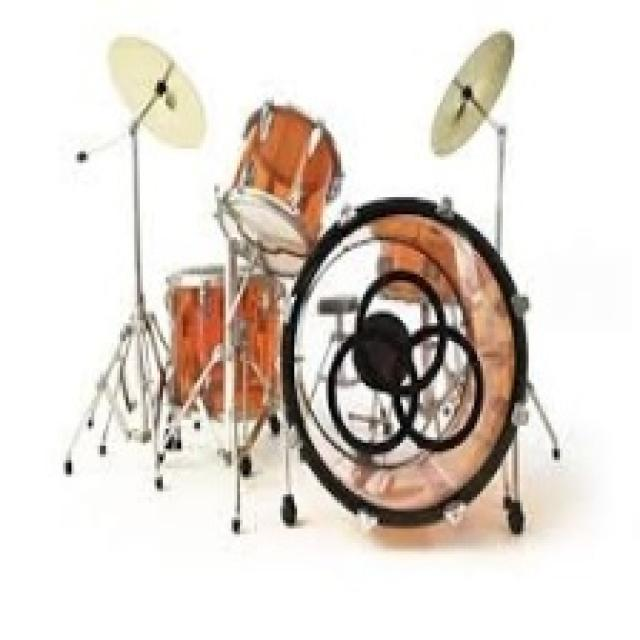drums: (83, 41, 569, 538)
